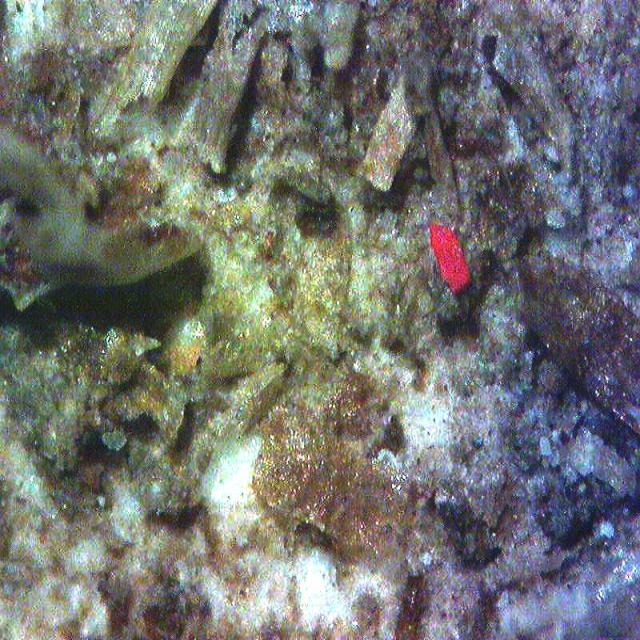microplastic: (424, 216, 475, 300)
